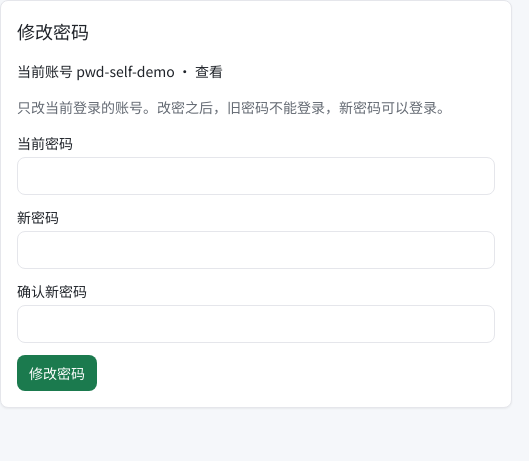
Test case: ChangePasswordView › shows the API error and stays on the page
Type "Wrong@123456" into the password field with test id "password-self-current".
click(256, 176); type("Wrong@123456")  # box x1=17 y1=157 x2=495 y2=195
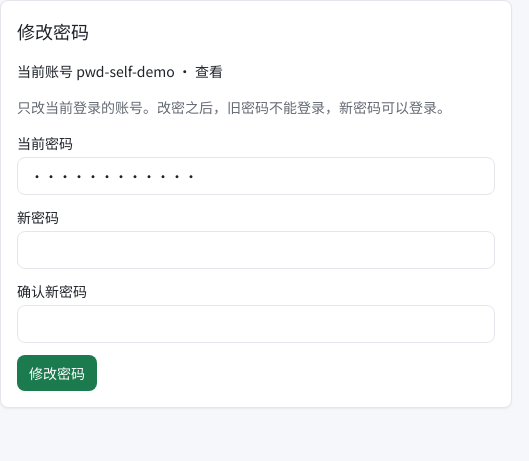
Type "PwdNew@123456" into the password field with test id "password-self-new".
click(256, 250); type("PwdNew@123456")  # box x1=17 y1=231 x2=495 y2=269
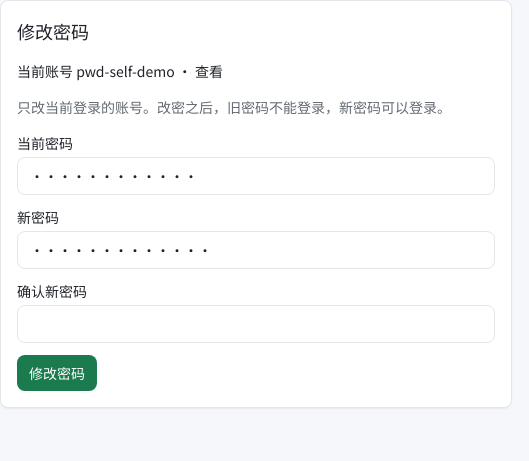
Type "PwdNew@123456" into the password field with test id "password-self-confirm".
click(256, 324); type("PwdNew@123456")  # box x1=17 y1=305 x2=495 y2=343
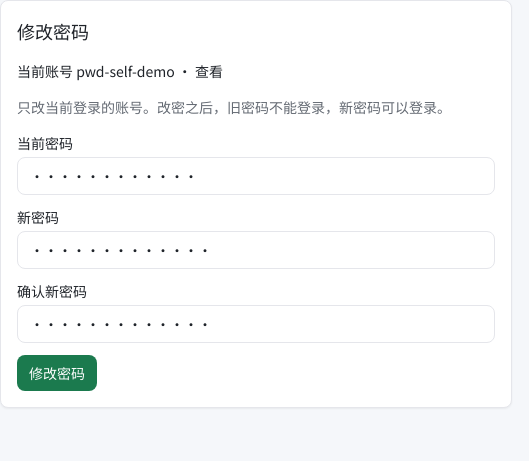
Submit the form with test id "password-self-form", box x1=17 y1=133 x2=495 y2=391
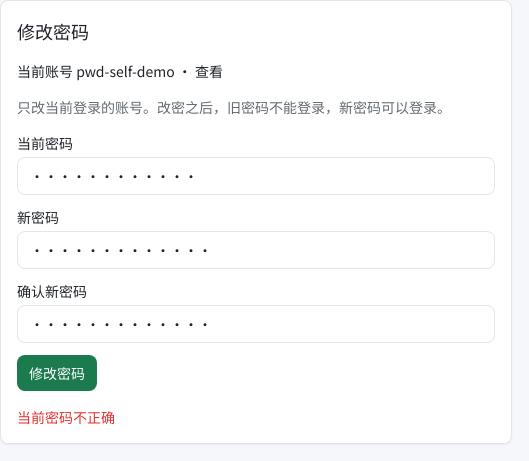
Result: the text with test id "password-self-error" reads "当前密码不正确" at x1=17 y1=407 x2=115 y2=427
